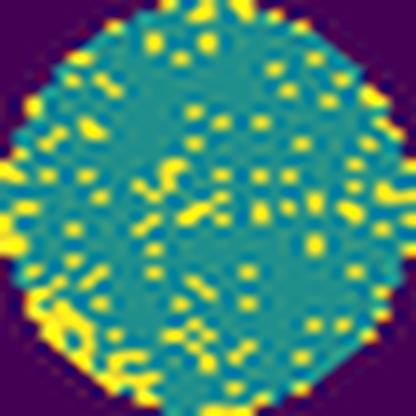Edge-Loc: (23, 275, 158, 402)
